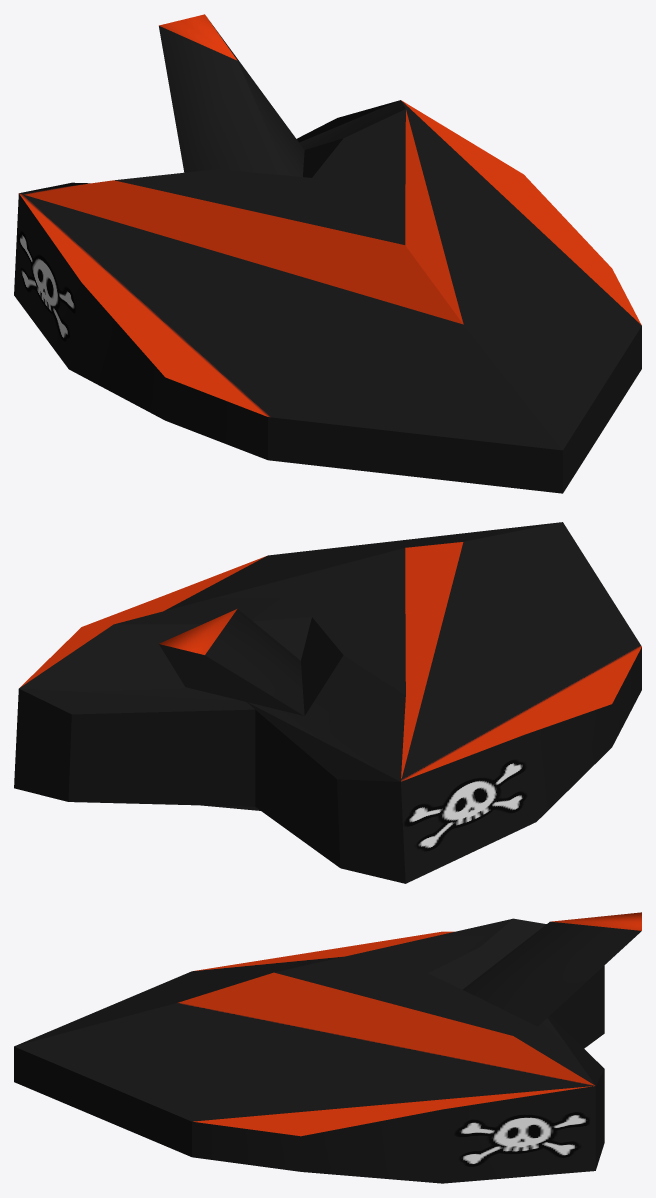
Rendered from suicideship.fbx.
The picture shows the model from 3 angles, top to bottom: view 1: azimuth 30°, elevation 25°; view 2: azimuth 150°, elevation 25°; view 3: azimuth 270°, elevation 25°; orthographic projection. The views are drawn at different scales.
Visible parts, largest first — view 1: pCube2; view 2: pCube2; view 3: pCube2.
Boxes of the visible parts, x1,y1,x2,y2 form: pCube2: (14,14,641,493); pCube2: (14,522,641,883); pCube2: (14,912,641,1183).
Bounding box in the file's own units: 2.92 × 1.35 × 4.11.
